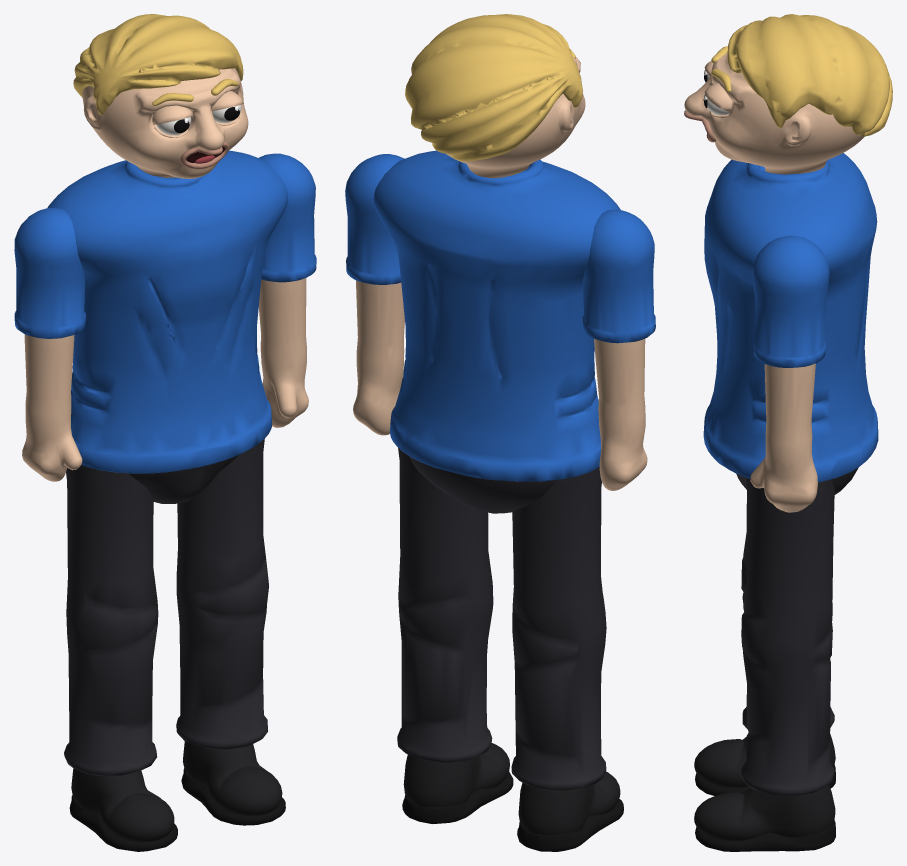
The model's file is liner_4.glb.
3 renders of one model, left to right at view 1: azimuth 30°, elevation 25°; view 2: azimuth 150°, elevation 25°; view 3: azimuth 270°, elevation 25°, orthographic. The views are drawn at different scales.
Visible parts, largest first — view 1: Body_Mesh, LegR_Mesh, LegL_Mesh, Head_Mesh, ArmR_Mesh, ArmL_Mesh, Mouth; view 2: Body_Mesh, LegR_Mesh, LegL_Mesh, Head_Mesh, ArmR_Mesh, ArmL_Mesh; view 3: Body_Mesh, LegL_Mesh, Head_Mesh, ArmL_Mesh, LegR_Mesh.
Boxes of the visible parts, x1=… form: Body_Mesh: x1=47, y1=150, x2=288, y2=503; LegR_Mesh: x1=64, y1=465, x2=177, y2=851; LegL_Mesh: x1=176, y1=438, x2=285, y2=825; Head_Mesh: x1=73, y1=14, x2=248, y2=178; ArmR_Mesh: x1=14, y1=207, x2=85, y2=481; ArmL_Mesh: x1=258, y1=153, x2=316, y2=427; Mouth: x1=180, y1=141, x2=229, y2=169; Body_Mesh: x1=373, y1=150, x2=620, y2=513; LegR_Mesh: x1=511, y1=466, x2=623, y2=851; LegL_Mesh: x1=397, y1=448, x2=513, y2=823; Head_Mesh: x1=405, y1=14, x2=585, y2=178; ArmR_Mesh: x1=582, y1=209, x2=655, y2=490; ArmL_Mesh: x1=345, y1=154, x2=404, y2=435; Body_Mesh: x1=703, y1=153, x2=878, y2=494; LegL_Mesh: x1=694, y1=477, x2=835, y2=851; Head_Mesh: x1=684, y1=14, x2=892, y2=174; ArmL_Mesh: x1=750, y1=235, x2=829, y2=512; LegR_Mesh: x1=694, y1=493, x2=835, y2=795.
Size of the model in its own units: 0.7119 by 1.81 by 0.4353.
